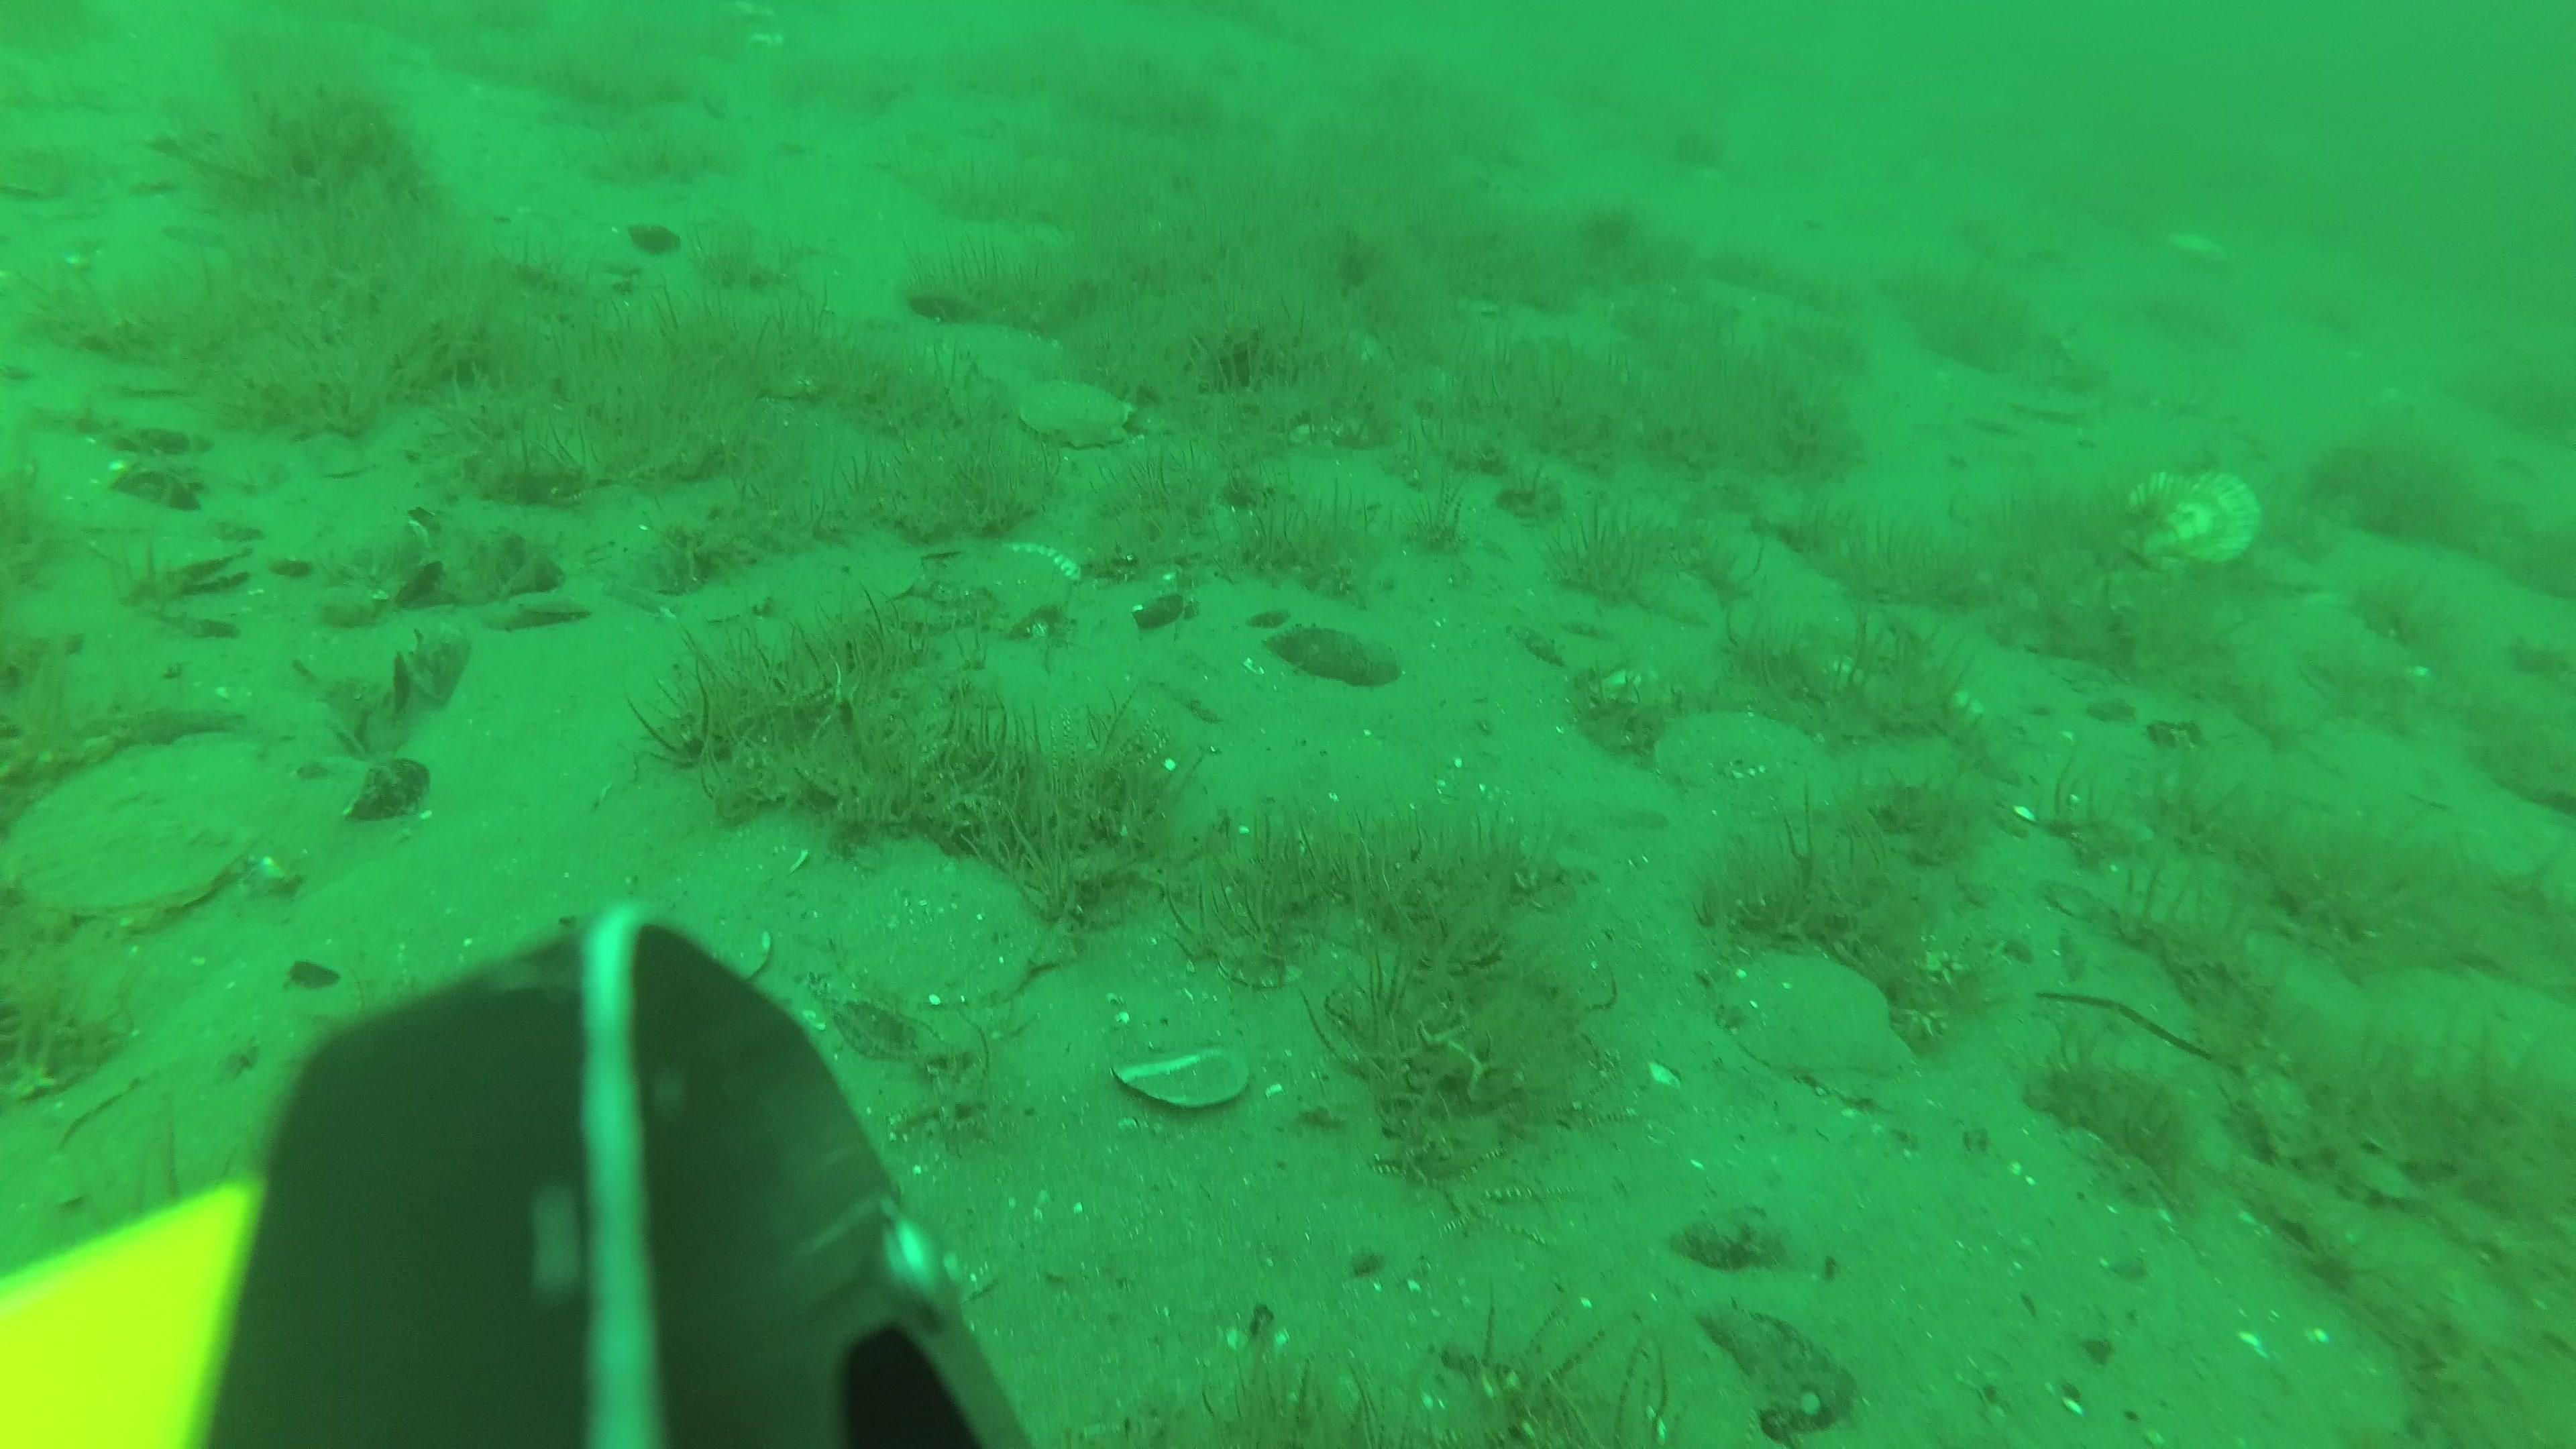scallop: (1704, 952, 1925, 1100), (837, 860, 1069, 1001), (2116, 467, 2258, 573), (1019, 377, 1131, 449), (2169, 223, 2229, 258)
